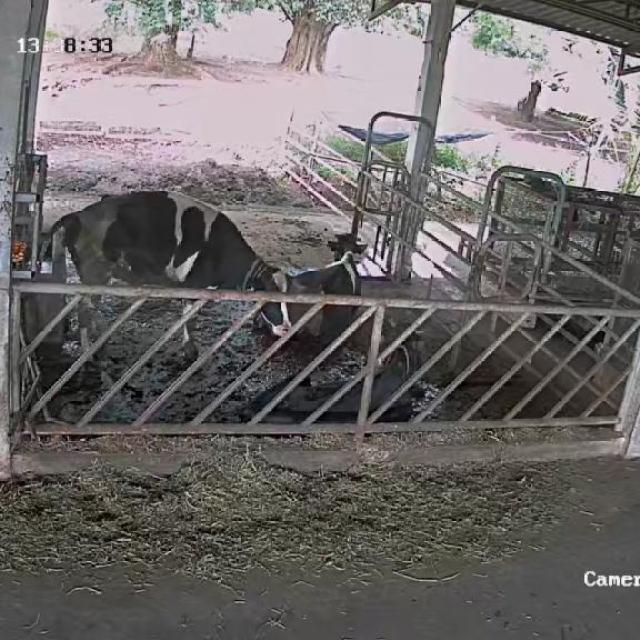lying down: (243, 321, 422, 425), (291, 232, 375, 347)
standing: (46, 187, 294, 362)
